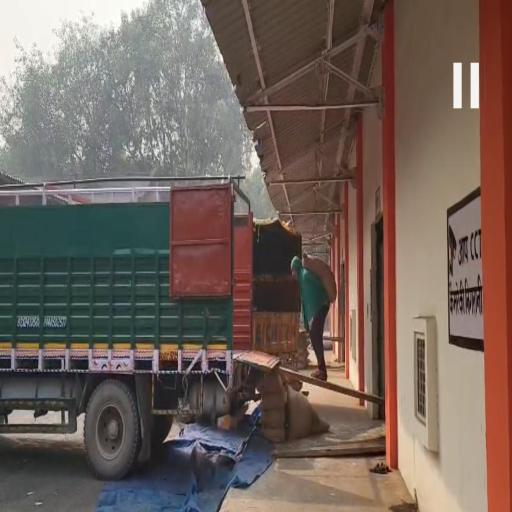c-belt-sack-count: (302, 253, 337, 302)
